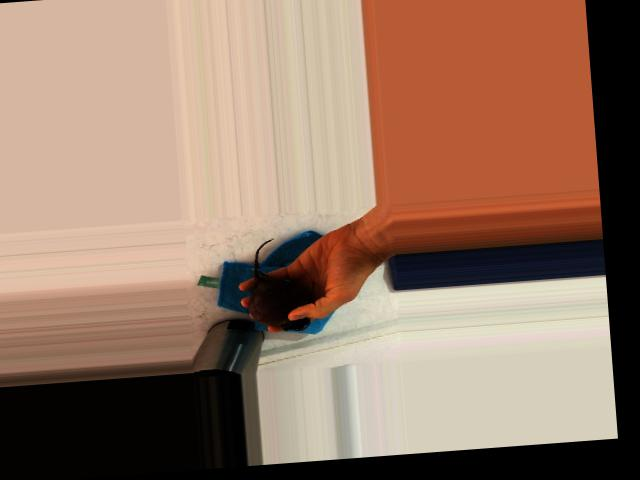beet: (243, 235, 316, 334)
